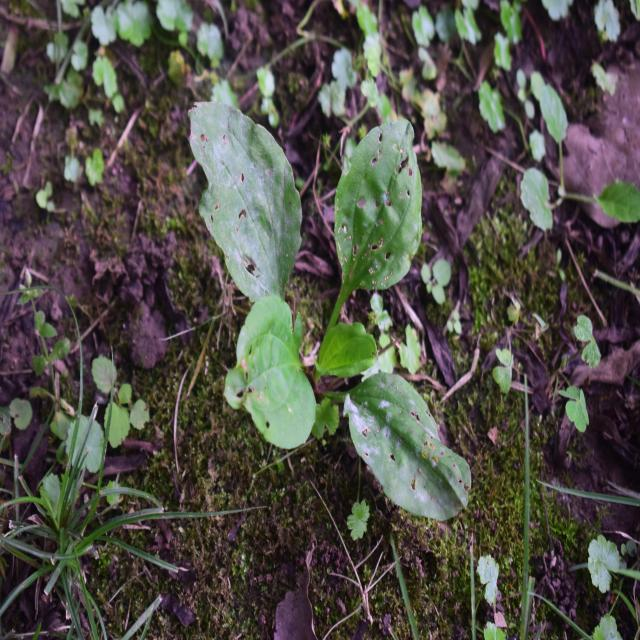plantain: (200, 88, 464, 501)
